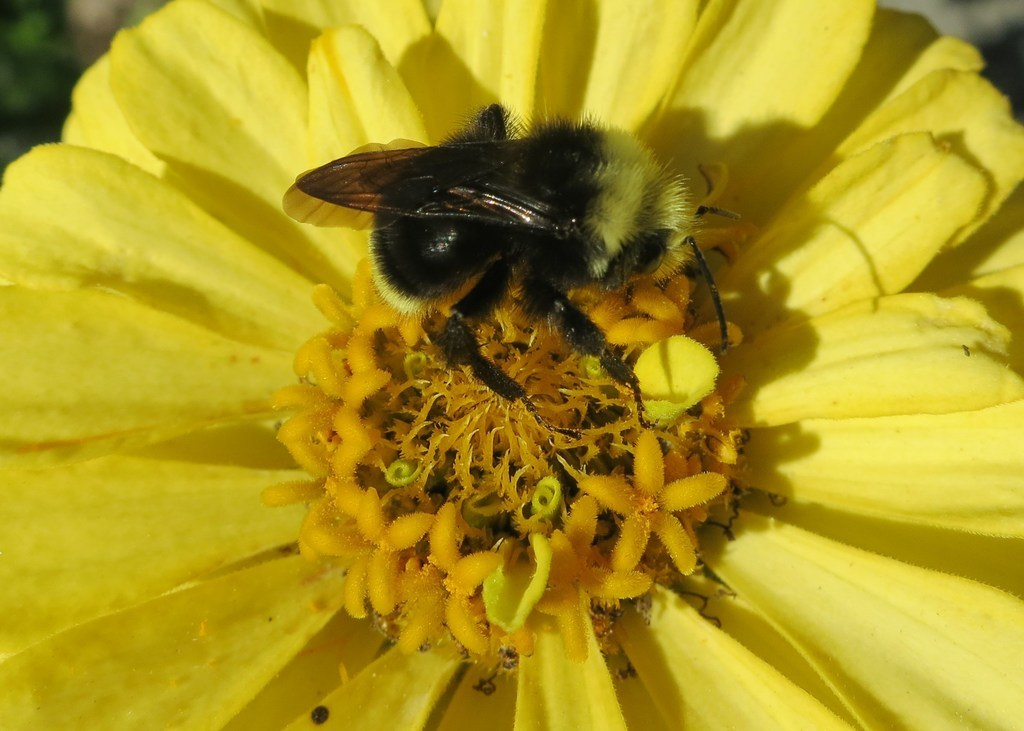bee: (255, 92, 776, 428)
insect: (0, 0, 1023, 730)
